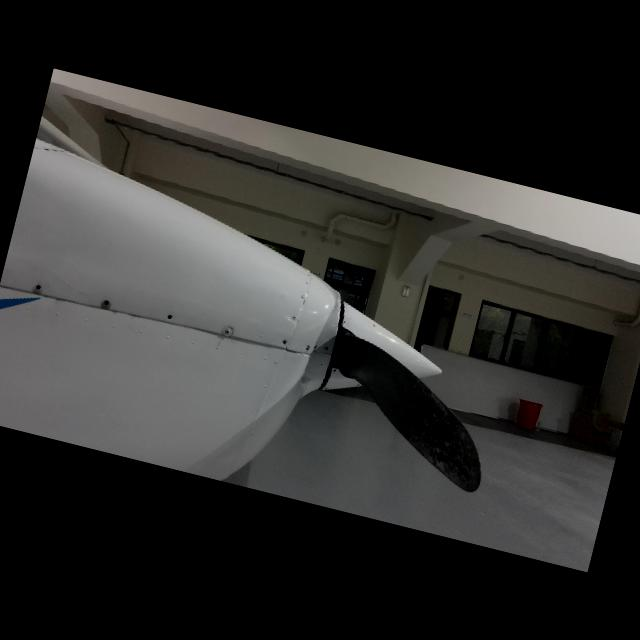Missing Fastener: (164, 312, 174, 321), (33, 282, 42, 291), (280, 339, 287, 346), (103, 298, 109, 305)
